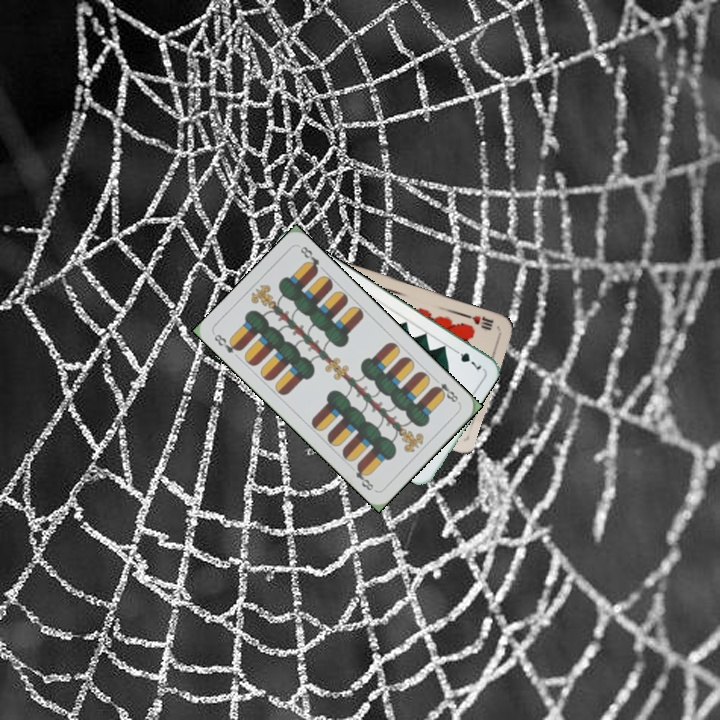E8: (429, 374, 462, 406), (210, 330, 244, 356)
G7: (449, 344, 484, 375)
H10: (460, 310, 496, 333)
